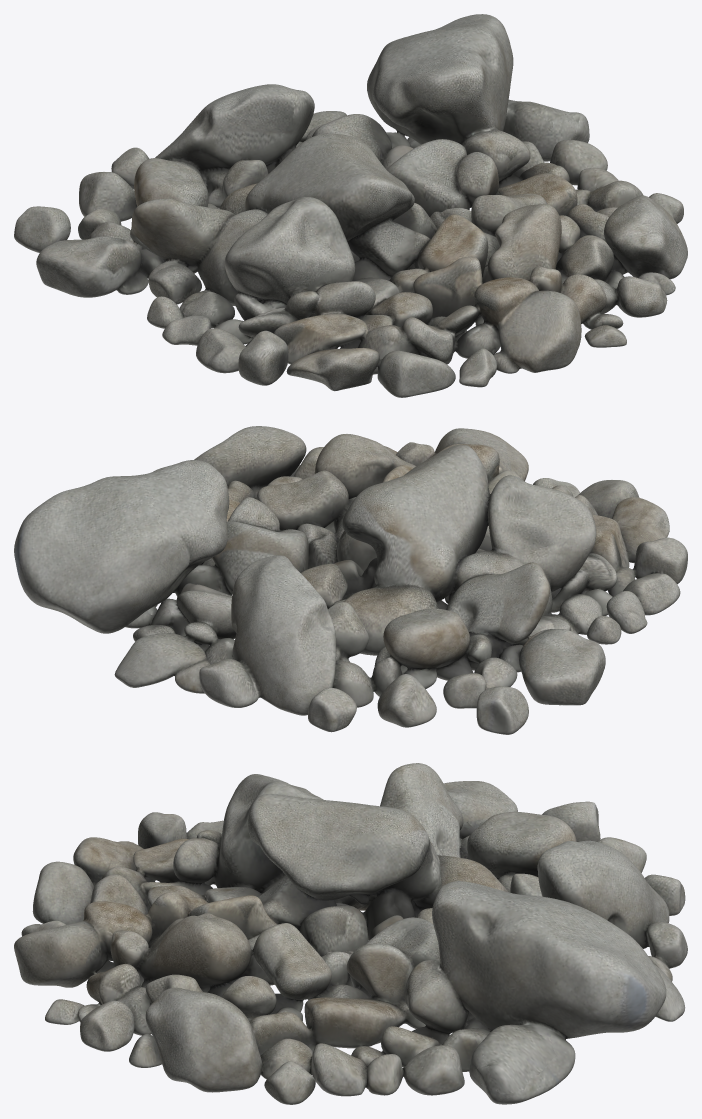
Rendered from prop15.glb.
3 renders of one model, top to bottom at view 1: azimuth 30°, elevation 25°; view 2: azimuth 150°, elevation 25°; view 3: azimuth 270°, elevation 25°, orthographic. The views are drawn at different scales.
Visible parts, largest first — view 1: mesh_node; view 2: mesh_node; view 3: mesh_node.
Part boxes in pixels (x1=…): mesh_node: x1=14, y1=14, x2=687, y2=397; mesh_node: x1=14, y1=426, x2=687, y2=734; mesh_node: x1=14, y1=763, x2=687, y2=1104.
Bounding box in the file's own units: 1.89 × 0.4547 × 1.83.
Materials: 1 (1 with a texture image).
